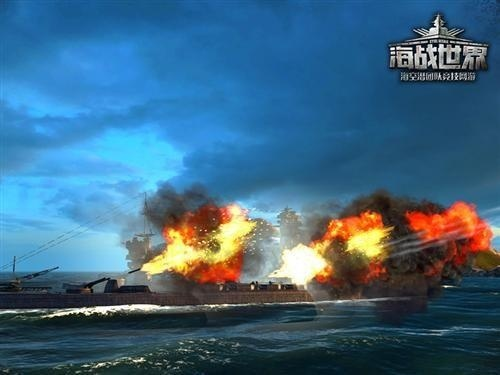fire: (140, 200, 256, 282), (274, 208, 391, 286), (405, 198, 496, 254)
